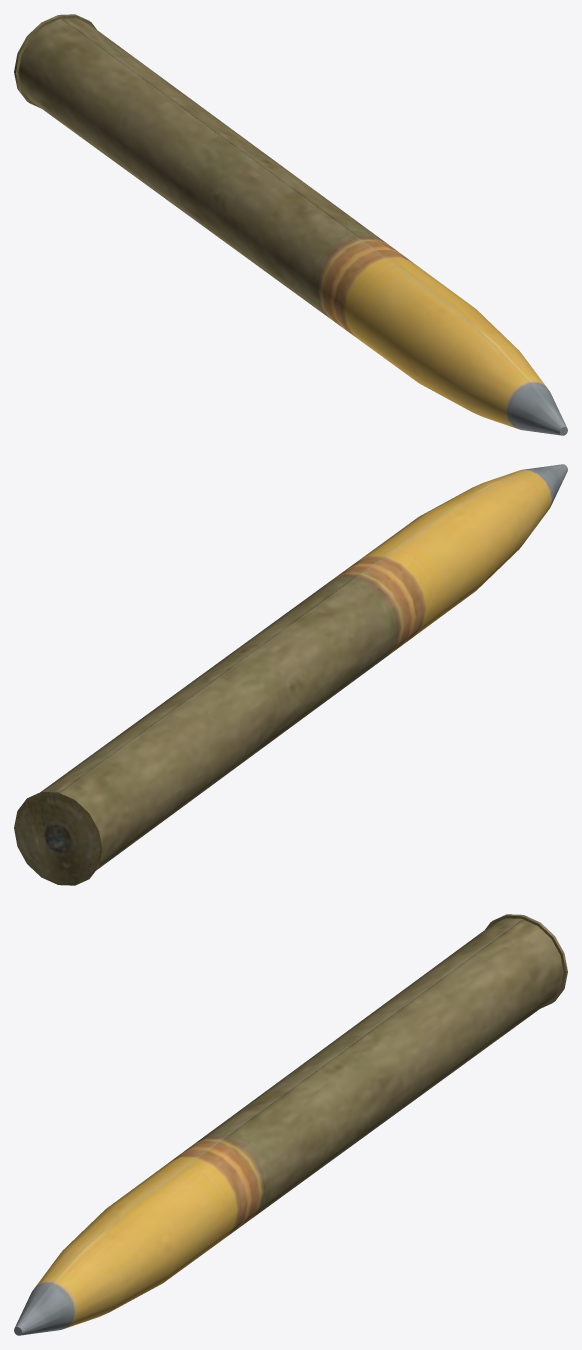
The model's file is military_flak88_shell.glb.
3 renders of one model, top to bottom at view 1: azimuth 30°, elevation 25°; view 2: azimuth 150°, elevation 25°; view 3: azimuth 330°, elevation 25°, orthographic.
Bounding box in the file's own units: 3.86 × 3.86 × 38.19.
Materials: 1 (1 with a texture image).
